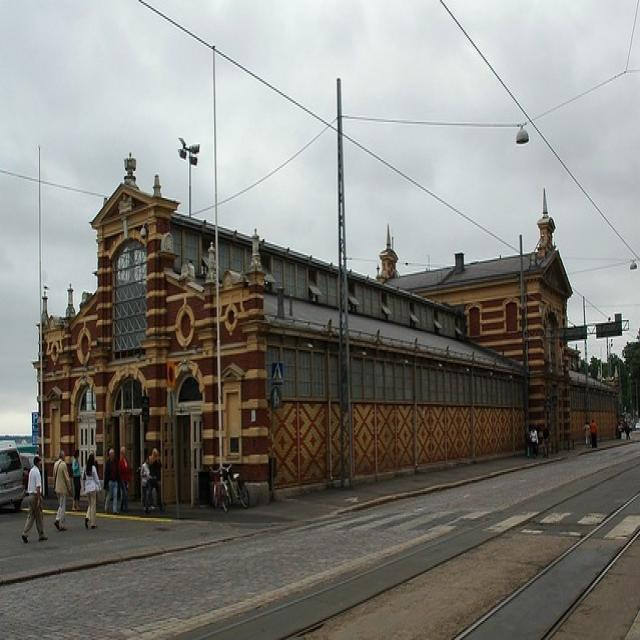building: (31, 167, 526, 506), (376, 238, 624, 451)
